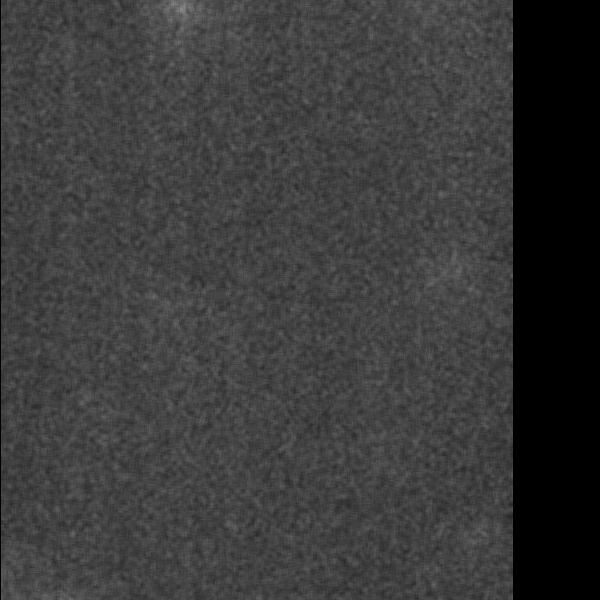spark: (238, 358, 271, 434)
